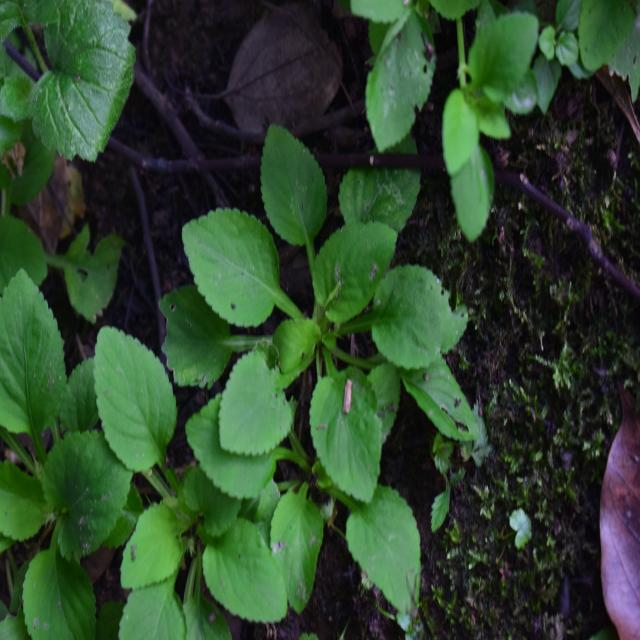Viola: (178, 126, 450, 502)
